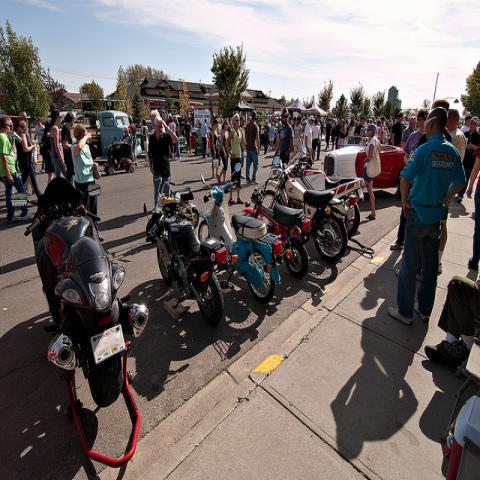car: (321, 135, 406, 200)
motorcycle: (27, 159, 150, 408), (142, 173, 228, 327), (198, 162, 285, 301), (243, 154, 311, 280), (267, 165, 350, 263), (285, 145, 366, 237)
truck: (91, 110, 127, 155)
